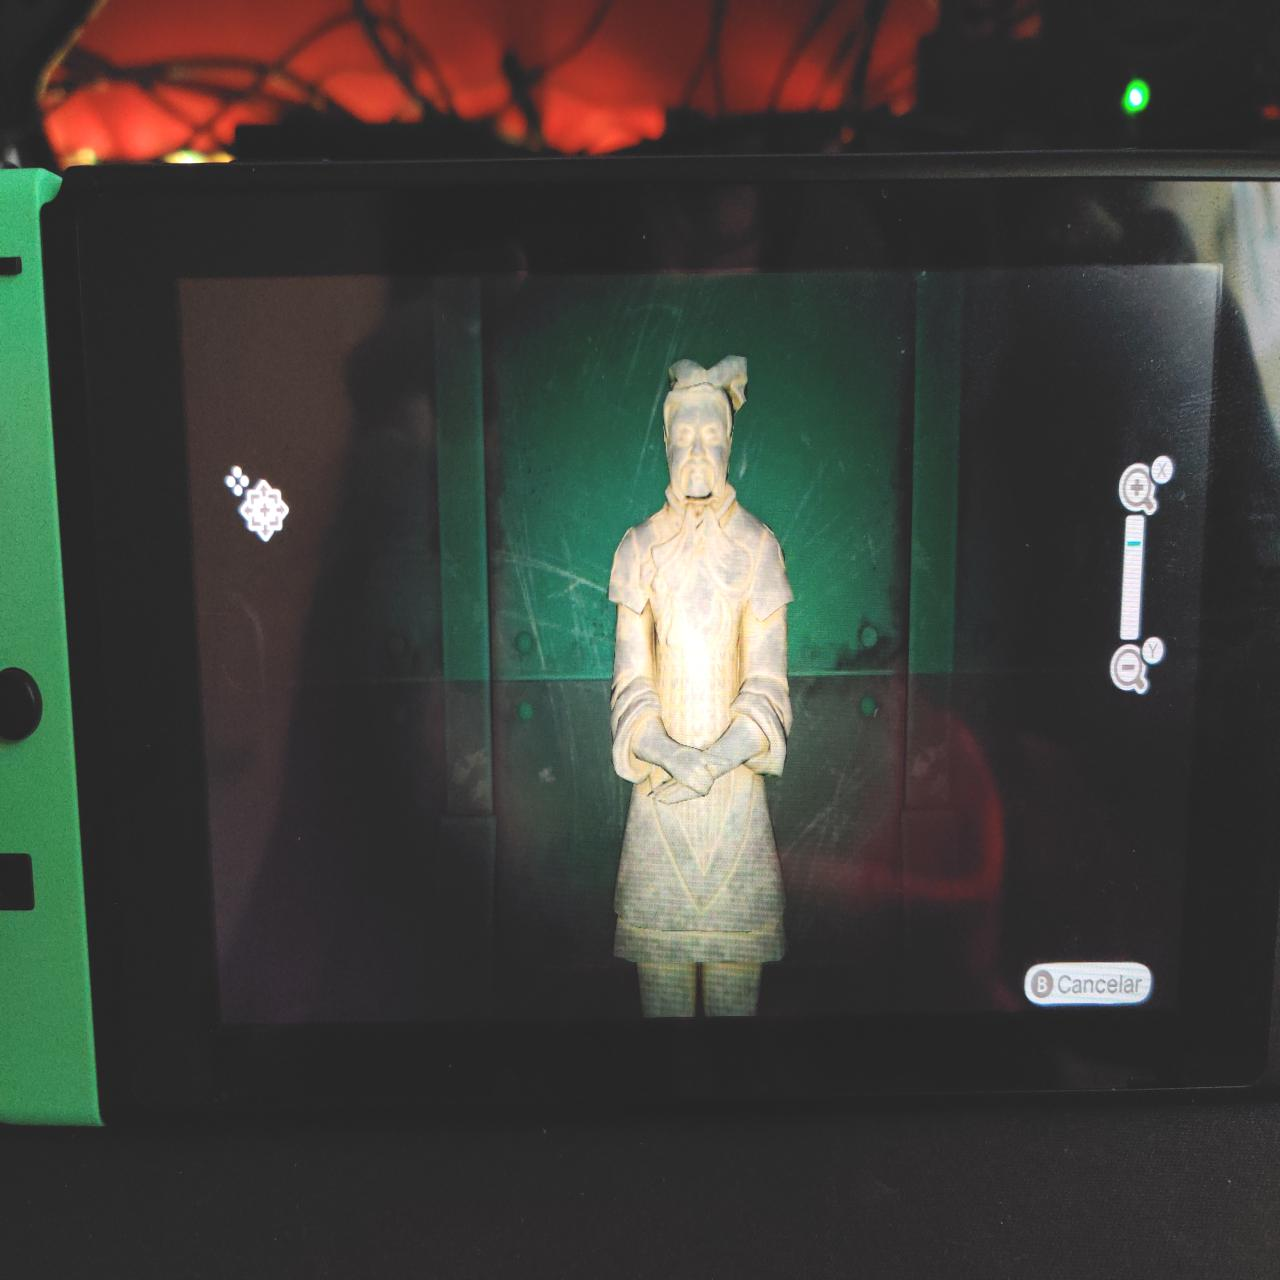Heibayo: (597, 343, 803, 1022)
